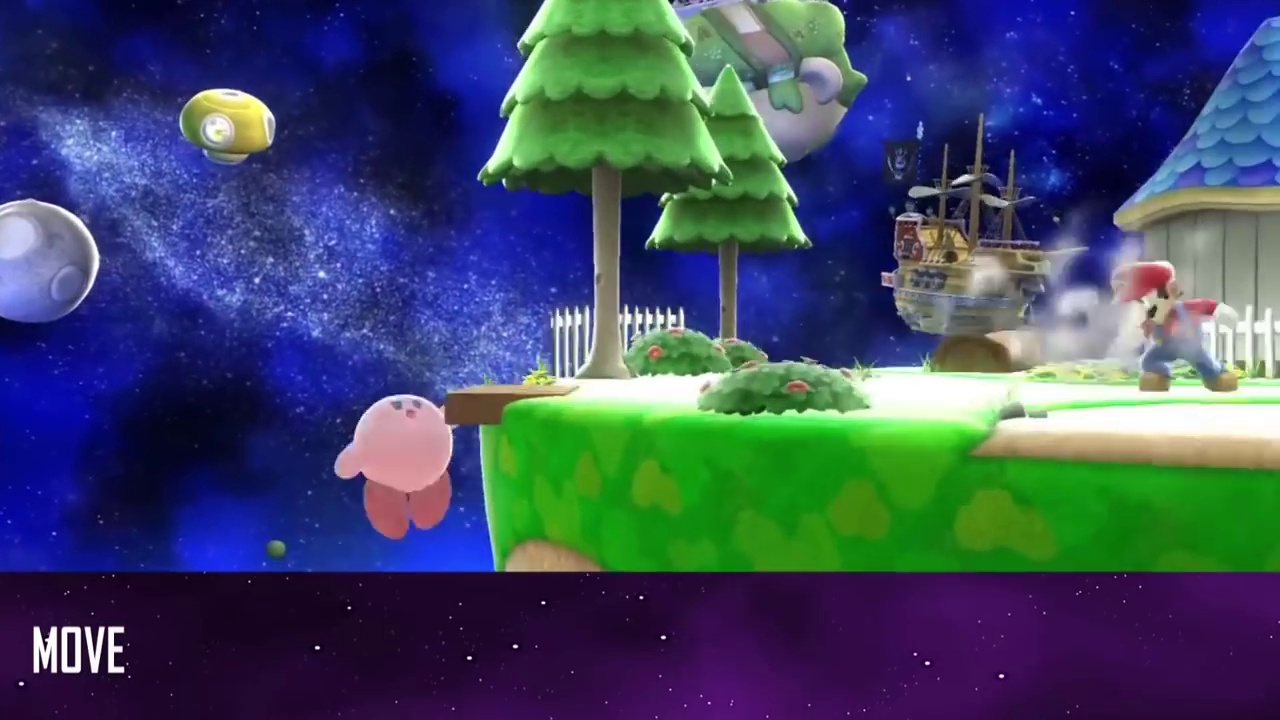Mario: (1108, 264, 1238, 395)
